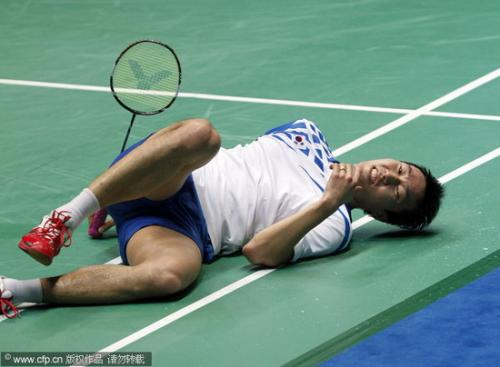fall: (1, 90, 451, 320)
